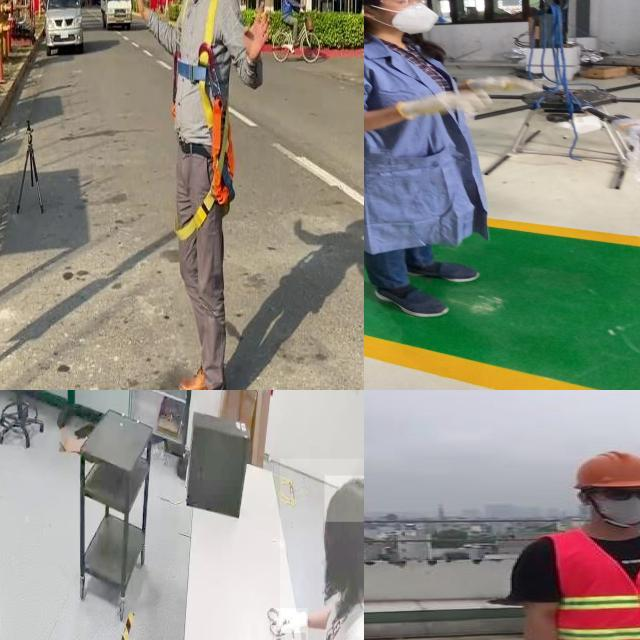Harness: (177, 0, 236, 240)
face_mask: (372, 0, 442, 39), (591, 482, 640, 524)
glasses: (598, 483, 640, 503), (373, 0, 426, 7)
hand_glove: (401, 88, 494, 120), (457, 72, 539, 96), (274, 608, 308, 640)
head_helmet: (569, 448, 640, 489)
head_nohelmet: (324, 475, 364, 522)
person: (364, 0, 525, 333), (510, 448, 640, 640), (279, 458, 364, 640)
shoes: (364, 272, 456, 321), (386, 256, 484, 286)
vest: (545, 527, 640, 640)
